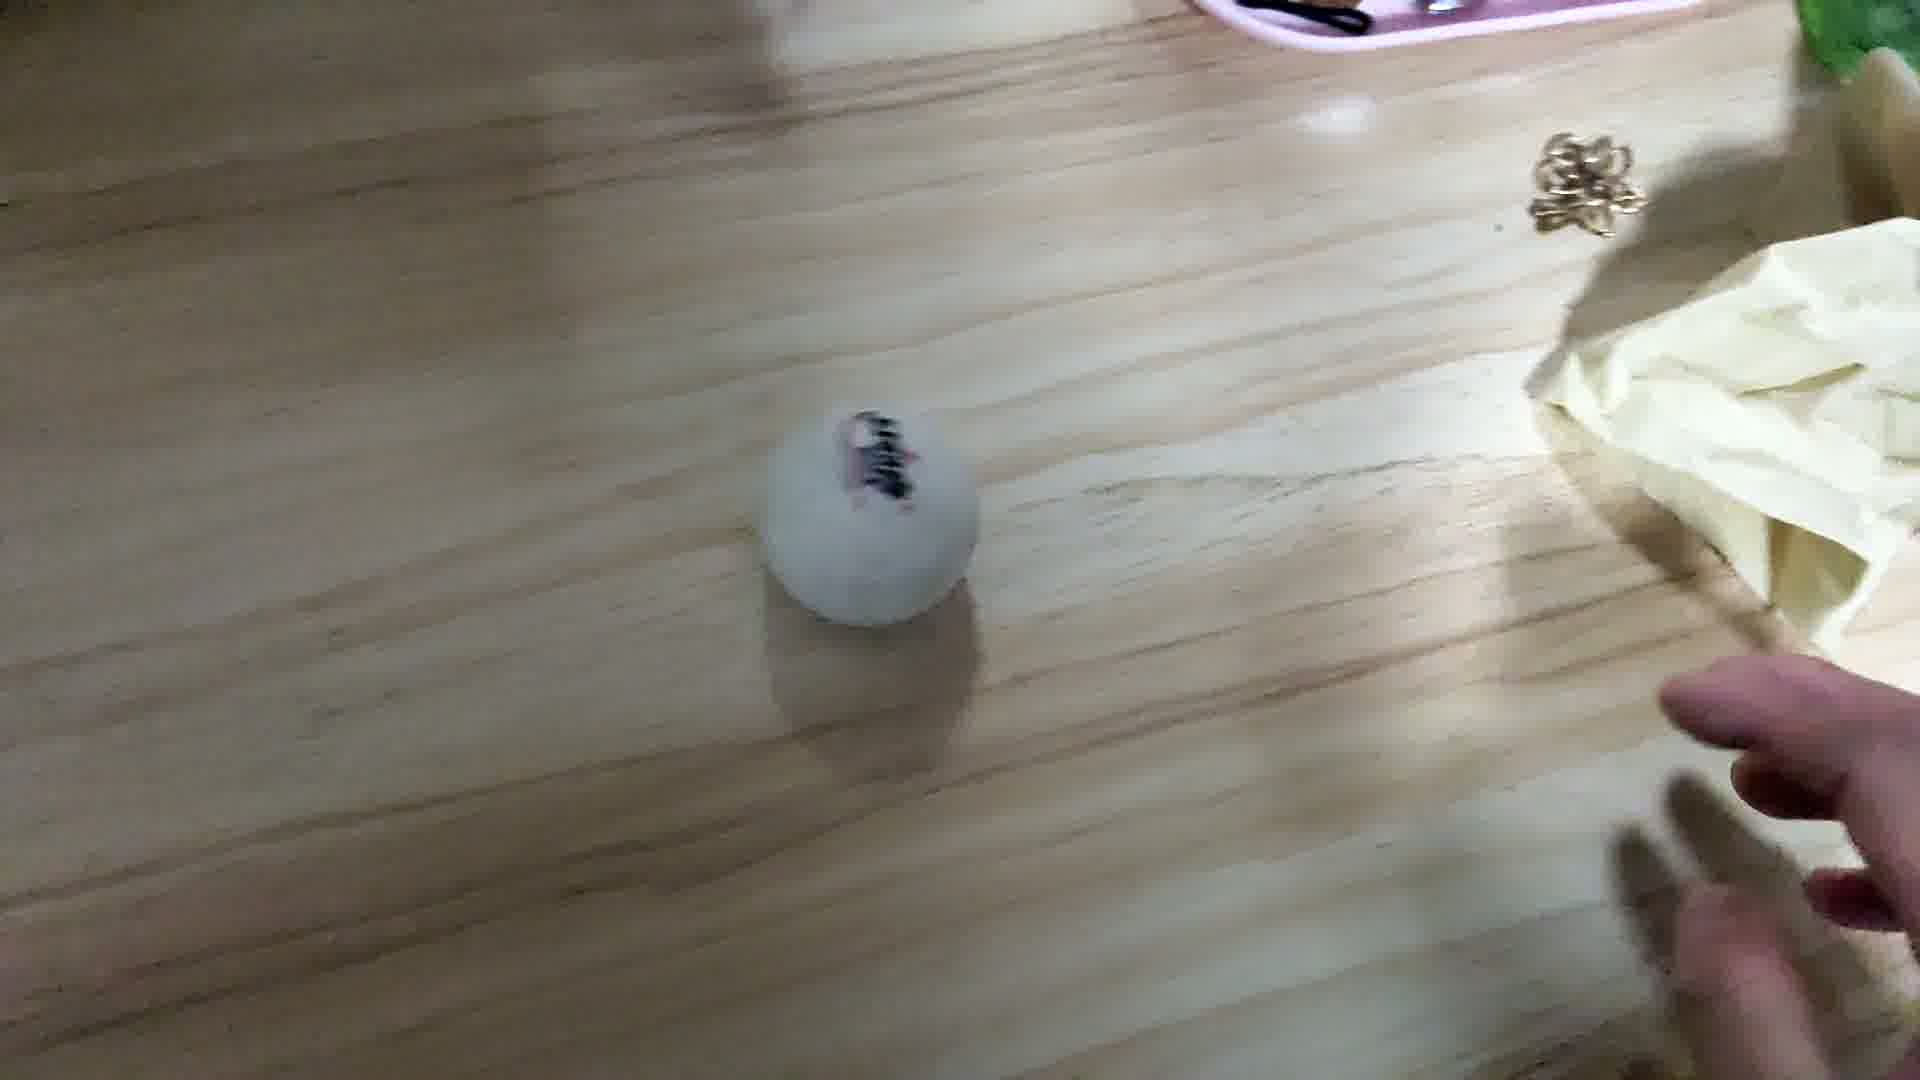Ball: (749, 404, 982, 624)
